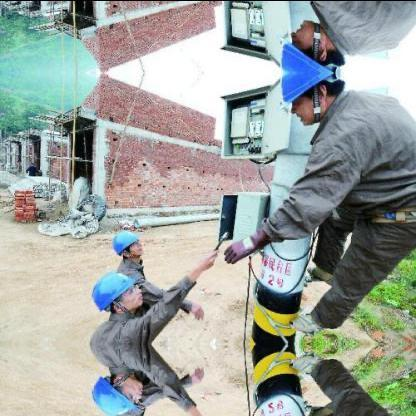Helmet: (275, 71, 343, 129), (275, 13, 343, 71), (84, 265, 150, 317), (84, 367, 150, 413), (109, 227, 141, 259)
